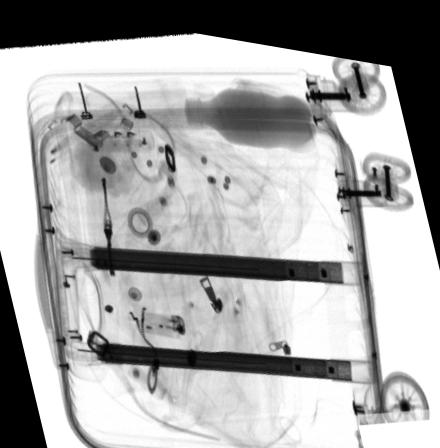Lighter: (142, 306, 185, 332)
